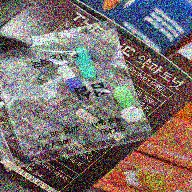러키펜정: (121, 107, 142, 123)
씨엠지세파클러캡슐: (57, 65, 86, 94)
에르도캡슐: (76, 48, 97, 81)
휴티렌정: (114, 86, 133, 108)
